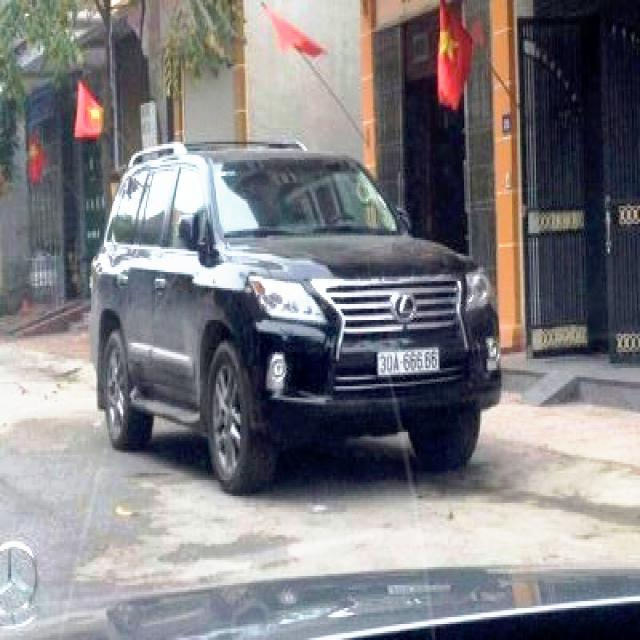license_plate: (378, 348, 440, 378)
